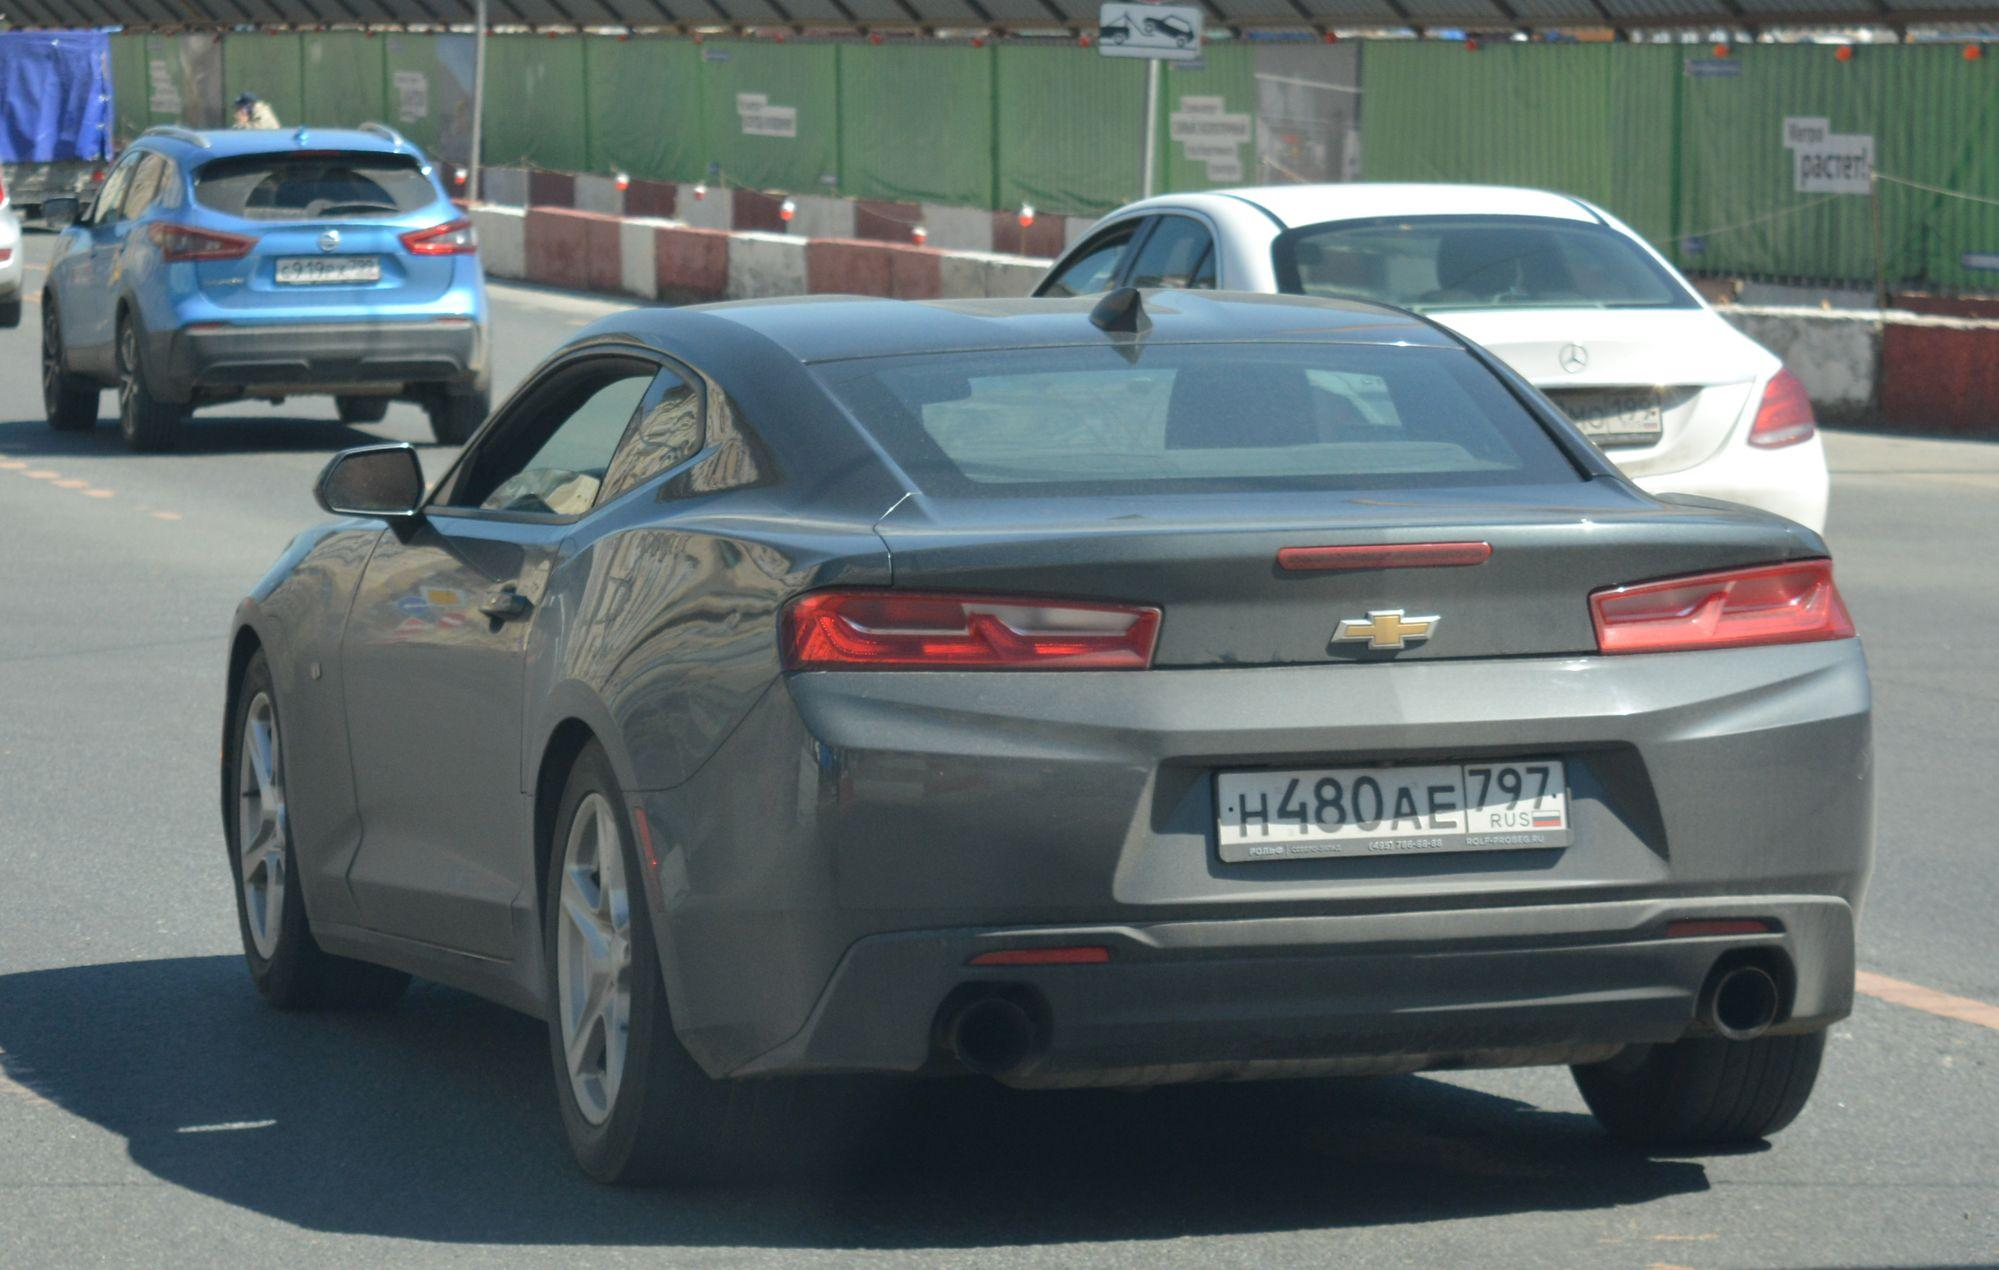license-plateSW: (1222, 762, 1570, 840), (277, 262, 381, 281)
